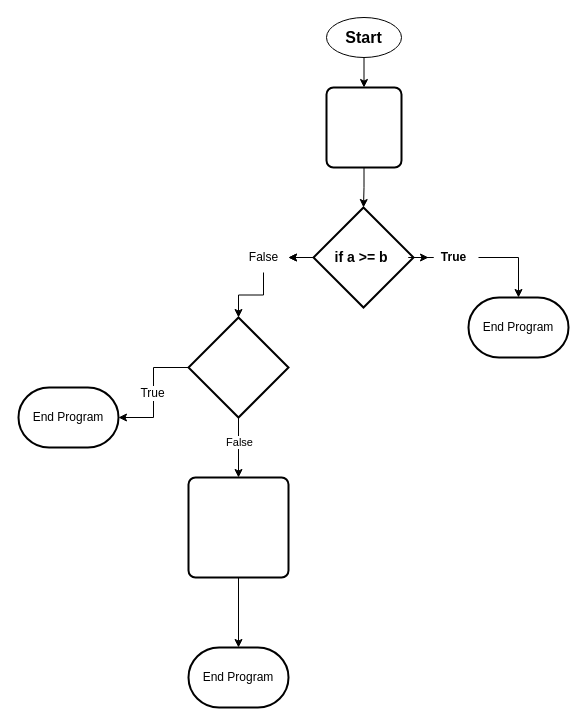
Image size: 586x726. Some labels were removed from this diagram. The shapes that lost their labels are listed below. From the top down, each one's box as (x1, y1, x2, y2) in pixels, then its label:
(325, 86, 402, 168): input a; input b; input c;
(187, 316, 289, 418): if b >= c
(187, 476, 289, 578): Print c is the largest number
